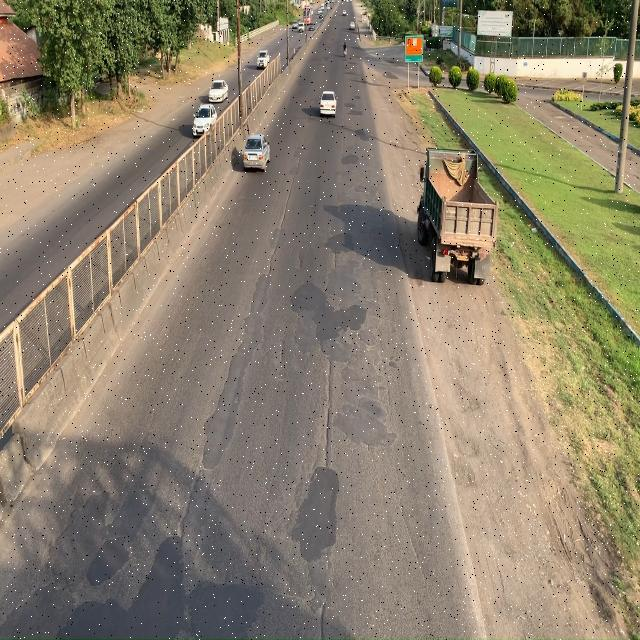Truck: (411, 150, 494, 290)
cars: (243, 131, 269, 172)
